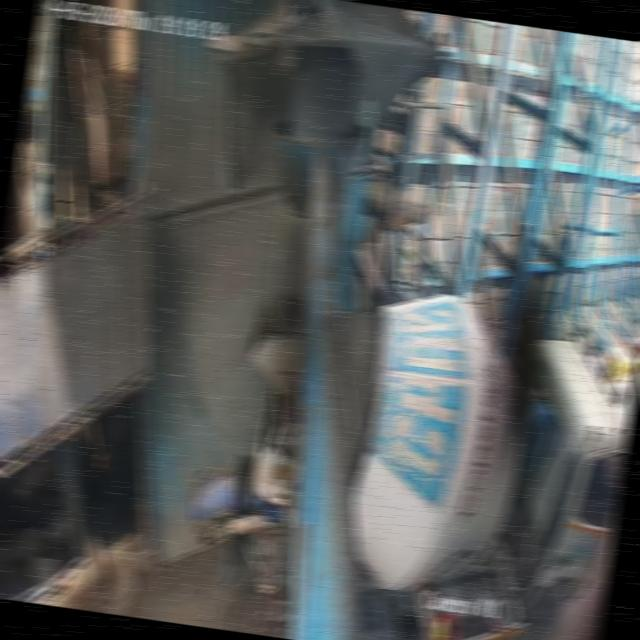cement_mixer_truck: (212, 295, 630, 640)
swing_chute: (268, 123, 368, 344)
